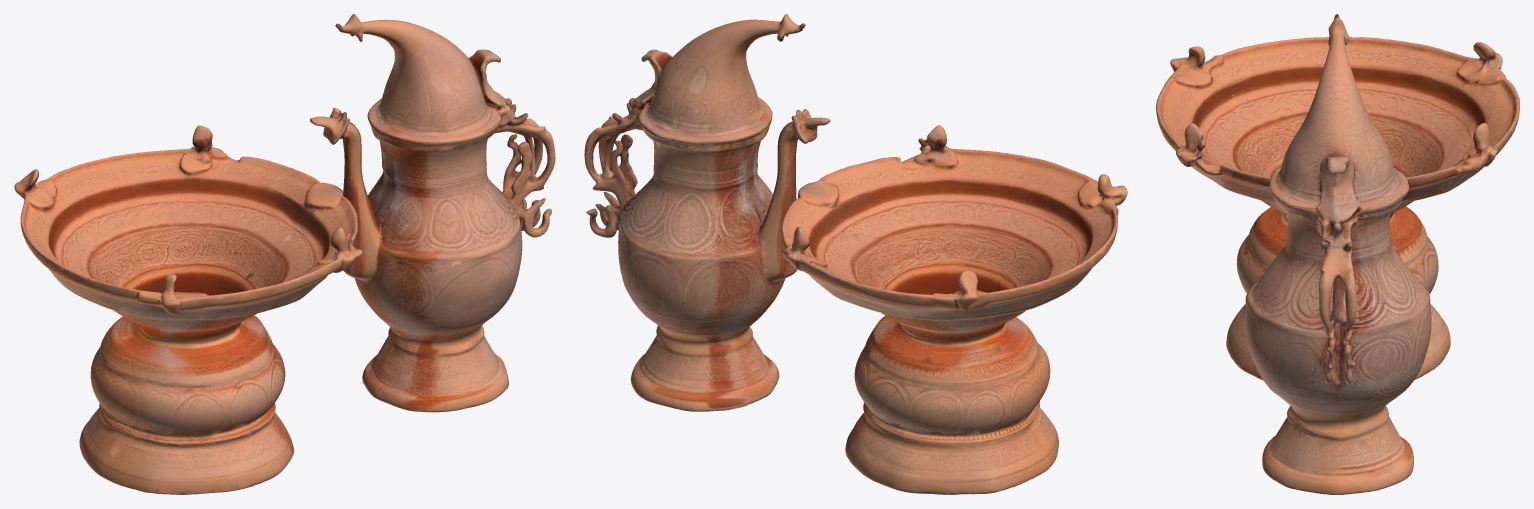
Rendered from tashnaer.glb.
3 views of the same model, side by side, from view 1: azimuth 30°, elevation 25°; view 2: azimuth 150°, elevation 25°; view 3: azimuth 270°, elevation 25° (orthographic). The views are drawn at different scales.
Bounding box in the file's own units: 2 × 1.52 × 1.2.
1 material, 1 textured.
